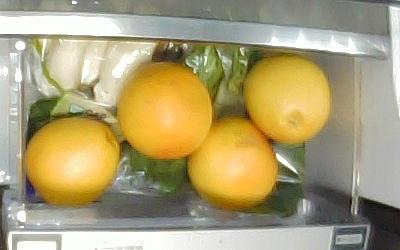grapefruit: (118, 64, 214, 160), (25, 118, 118, 207), (187, 117, 276, 208), (244, 54, 330, 146)
